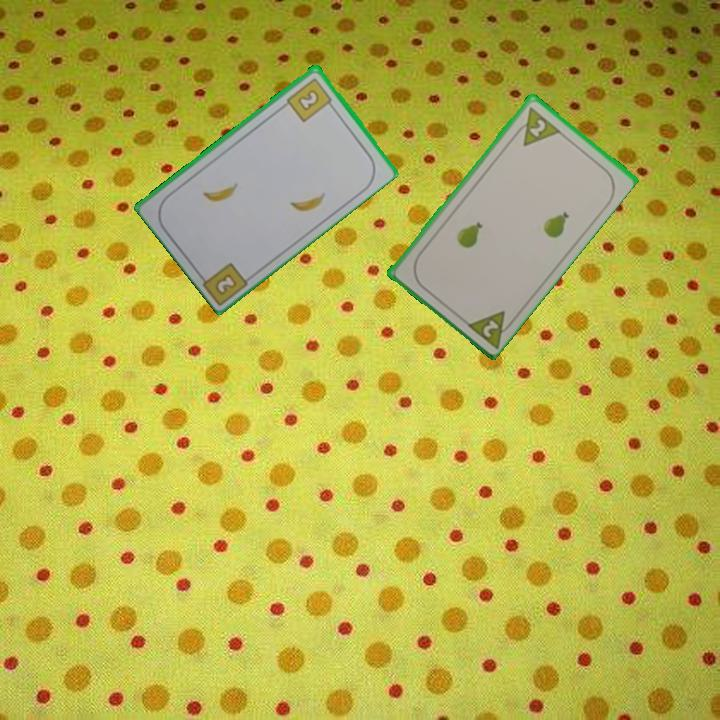2b: (283, 74, 337, 124), (211, 269, 240, 297)
2p: (461, 306, 519, 350), (509, 103, 562, 149)
